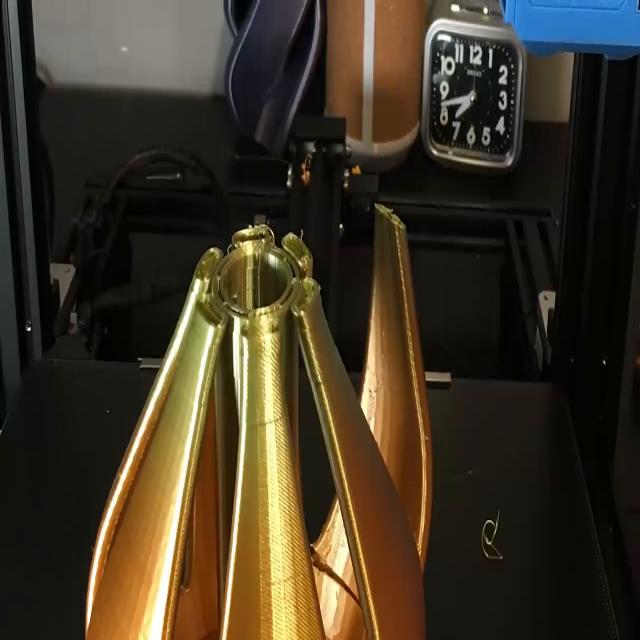spaghetti: (471, 506, 518, 585)
